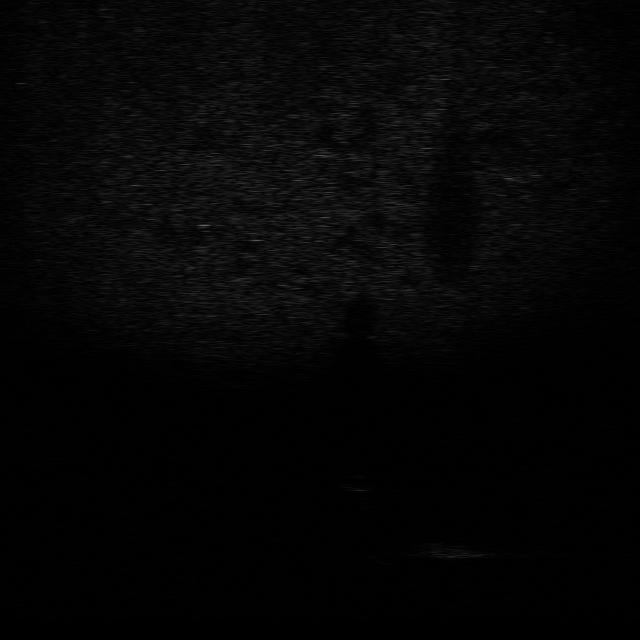ball: (334, 469, 385, 496)
metal bucket: (402, 538, 488, 562)
tyre: (355, 539, 400, 568)
